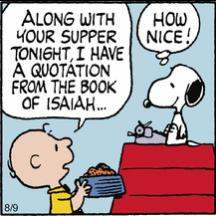charlie: (7, 121, 93, 215)
snoopy: (142, 62, 206, 146)
